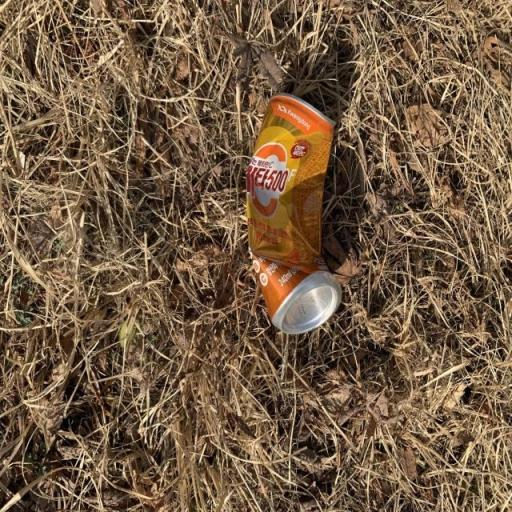metal: (224, 70, 347, 383)
